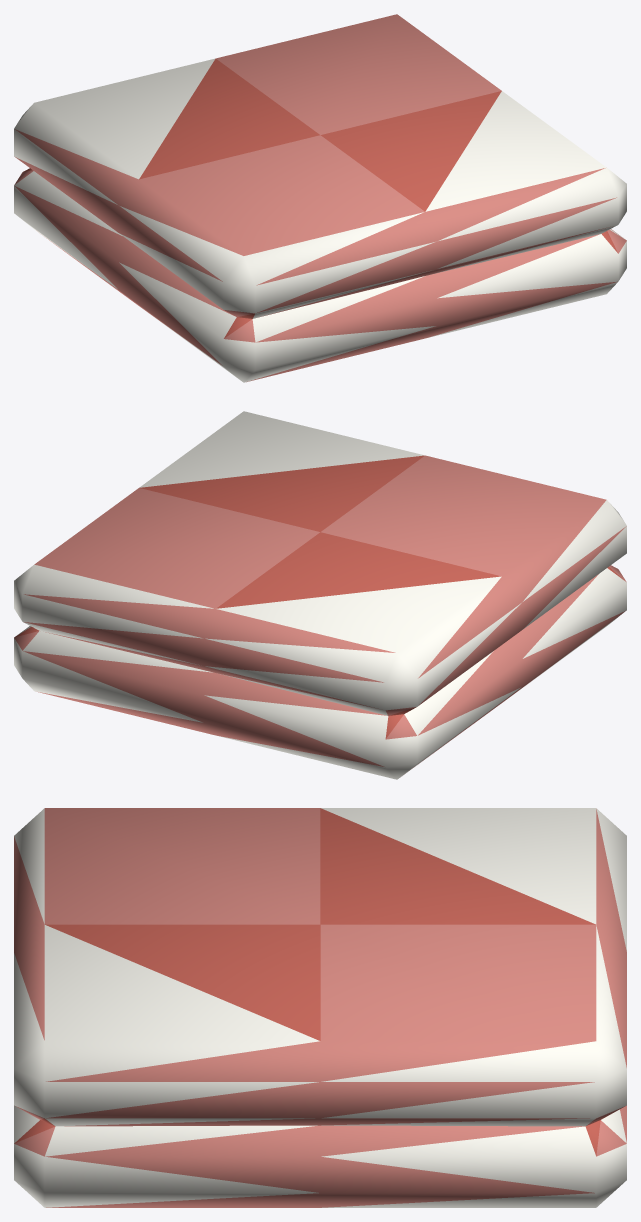
Rendered from itch_tiny_pleasant_picnic_picnic_blanket_red_folded.glb.
3 renders of one model, top to bottom at view 1: azimuth 30°, elevation 25°; view 2: azimuth 150°, elevation 25°; view 3: azimuth 270°, elevation 25°, orthographic. The views are drawn at different scales.
Parts seen in each view (by area): view 1: picnic_blanket_red_folded; view 2: picnic_blanket_red_folded; view 3: picnic_blanket_red_folded.
Part boxes in pixels (left/top/right/bottom): picnic_blanket_red_folded: left=14, top=14, right=626, bottom=382; picnic_blanket_red_folded: left=14, top=411, right=626, bottom=779; picnic_blanket_red_folded: left=14, top=808, right=626, bottom=1207.
Size of the model in its own units: 0.96 by 0.288 by 0.96.
